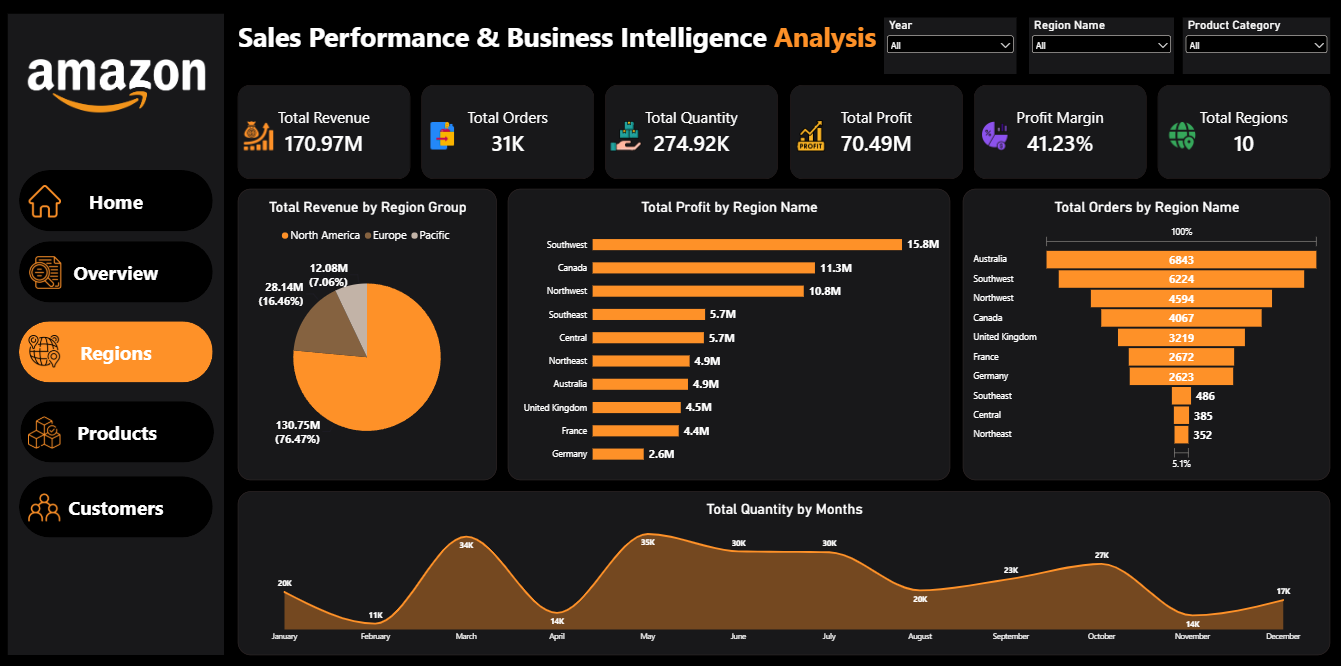

What the dashboard file says about the page in this screenshot:
{"tool":"powerbi","page":{"name":"Regions","canvas":[2150,1080],"ordinal":2},"visuals":[{"type":"textbox","box":[382,28,1022,86],"z":0},{"type":"cardVisual","fields":{"Data":["Sales 2011 to 2014.Total Revenue"]},"box":[382,136,276,150],"z":0,"group":"g1"},{"type":"cardVisual","fields":{"Data":["Sales 2011 to 2014.Total Orders"]},"box":[676,136,276,150],"z":1000,"group":"g1"},{"type":"lineChart","title":"Total Quantity by Months","fields":{"Category":["Sales 2011 to 2014.OrderDate.Variation.Date Hierarchy.Month"],"Y":["Sales 2011 to 2014.Total Quantity"]},"box":[382,786,1748,262],"z":1000},{"type":"cardVisual","fields":{"Data":["Sales 2011 to 2014.Total Quantity"]},"box":[970,136,276,150],"z":2000,"group":"g1"},{"type":"funnel","fields":{"Category":["Regions.Region Name"],"Y":["Sales 2011 to 2014.Total Orders"]},"box":[1542,302,588,466],"z":2000},{"type":"cardVisual","fields":{"Data":["Sales 2011 to 2014.Total Profit"]},"box":[1266,136,276,150],"z":3000,"group":"g1"},{"type":"barChart","fields":{"Category":["Regions.Region Name"],"Y":["Sales 2011 to 2014.Total Profit"]},"box":[814,302,708,466],"z":3000},{"type":"cardVisual","fields":{"Data":["Sales 2011 to 2014.Profit Margin"]},"box":[1560,136,276,150],"z":4000,"group":"g1"},{"type":"pieChart","fields":{"Category":["Regions.Region Group"],"Y":["Sales 2011 to 2014.Total Revenue"]},"box":[382,302,414,466],"z":4000},{"type":"cardVisual","fields":{"Data":["Regions.Total Regions"]},"box":[1854,136,276,150],"z":5000,"group":"g1"},{"type":"slicer","fields":{"Values":["Sales 2011 to 2014.OrderDate.Variation.Date Hierarchy.Year"]},"box":[1416,28,212,90],"z":6000},{"type":"slicer","fields":{"Values":["Regions.Region Name"]},"box":[1648,28,232,90],"z":7000},{"type":"slicer","fields":{"Values":["Products.Product Category"]},"box":[1894,28,236,90],"z":8000},{"type":"shape","box":[14,22,346,1026],"z":9000},{"type":"shape","box":[32,272,310,98],"z":10000},{"type":"image","box":[36,296,74,52],"z":11000},{"type":"shape","box":[32,386,310,98],"z":12000},{"type":"group","id":"g1","title":"Group 1","box":[382,136,1748,150],"z":13000},{"type":"image","box":[42,410,64,52],"z":14000},{"type":"shape","box":[32,514,310,98],"z":15000},{"type":"shape","box":[34,642,310,98],"z":16000},{"type":"shape","box":[32,762,310,98],"z":17000},{"type":"image","box":[40,536,64,52],"z":18000},{"type":"image","box":[40,786,64,52],"z":19000},{"type":"image","box":[40,666,64,52],"z":20000},{"type":"image","box":[382,192,66,50],"z":22000},{"type":"image","box":[676,192,66,50],"z":23000},{"type":"image","box":[970,192,66,50],"z":24000},{"type":"image","box":[1266,192,66,50],"z":25000},{"type":"image","box":[1560,192,66,50],"z":26000},{"type":"image","box":[1860,192,66,50],"z":27000},{"type":"image","box":[46,80,284,114],"z":27001}]}

Visuals, with their boxes in screenshot pixels (x1, y1, x2, y2), scaled from the page's 2150x1080 canvas onto the 1341x666 screenshot:
textbox: locate(238, 17, 876, 70)
cardVisual - Sales 2011 to 2014.Total Revenue: locate(238, 84, 410, 176)
cardVisual - Sales 2011 to 2014.Total Orders: locate(422, 84, 594, 176)
"Total Quantity by Months" lineChart: locate(238, 485, 1329, 646)
cardVisual - Sales 2011 to 2014.Total Quantity: locate(605, 84, 777, 176)
funnel - Regions.Region Name x Sales 2011 to 2014.Total Orders: locate(962, 186, 1329, 474)
cardVisual - Sales 2011 to 2014.Total Profit: locate(790, 84, 962, 176)
barChart - Regions.Region Name x Sales 2011 to 2014.Total Profit: locate(508, 186, 949, 474)
cardVisual - Sales 2011 to 2014.Profit Margin: locate(973, 84, 1145, 176)
pieChart - Regions.Region Group x Sales 2011 to 2014.Total Revenue: locate(238, 186, 496, 474)
cardVisual - Regions.Total Regions: locate(1156, 84, 1329, 176)
slicer - Sales 2011 to 2014.OrderDate.Variation.Date Hierarchy.Year: locate(883, 17, 1015, 73)
slicer - Regions.Region Name: locate(1028, 17, 1173, 73)
slicer - Products.Product Category: locate(1181, 17, 1329, 73)
shape: locate(9, 14, 225, 646)
shape: locate(20, 168, 213, 228)
image: locate(22, 183, 69, 215)
shape: locate(20, 238, 213, 298)
"Group 1" group: locate(238, 84, 1329, 176)
image: locate(26, 253, 66, 285)
shape: locate(20, 317, 213, 377)
shape: locate(21, 396, 215, 456)
shape: locate(20, 470, 213, 530)
image: locate(25, 331, 65, 363)
image: locate(25, 485, 65, 517)
image: locate(25, 411, 65, 443)
image: locate(238, 118, 279, 149)
image: locate(422, 118, 463, 149)
image: locate(605, 118, 646, 149)
image: locate(790, 118, 831, 149)
image: locate(973, 118, 1014, 149)
image: locate(1160, 118, 1201, 149)
image: locate(29, 49, 206, 120)
